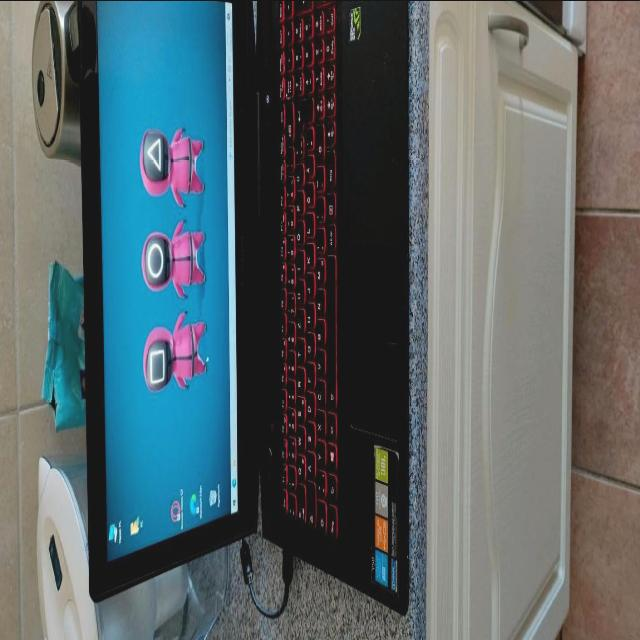0: (285, 206, 293, 232)
1: (287, 466, 295, 492)
2: (287, 440, 295, 466)
3: (285, 412, 295, 438)
4: (286, 382, 294, 408)
5: (286, 352, 294, 376)
6: (285, 322, 294, 348)
7: (285, 294, 294, 320)
8: (286, 265, 294, 291)
9: (286, 235, 294, 261)
a: (304, 455, 313, 483)
accent: (286, 148, 294, 174)
ae: (304, 155, 314, 177)
alt-left: (326, 412, 336, 442)
altgr-right: (325, 227, 335, 255)
b: (313, 323, 323, 349)
c: (314, 383, 324, 411)
caret: (287, 495, 295, 521)
comma: (313, 232, 323, 256)
d: (303, 396, 312, 422)
del: (286, 101, 294, 143)
e: (295, 400, 303, 426)
enter: (294, 99, 314, 135)
f: (303, 365, 312, 393)
g: (303, 335, 313, 363)
h: (303, 306, 313, 334)
hash: (303, 128, 314, 152)
i: (294, 253, 303, 279)
j: (303, 277, 313, 303)
k: (303, 247, 313, 273)
keyboard: (275, 0, 341, 554)
l: (302, 217, 312, 243)
less: (315, 473, 325, 501)
m: (313, 263, 323, 287)
minus: (314, 168, 324, 190)
n: (314, 293, 323, 319)
o: (294, 223, 303, 249)
oe: (305, 185, 315, 207)
p: (295, 192, 303, 216)
plus: (295, 138, 303, 162)
point: (313, 201, 323, 227)
q: (295, 458, 303, 484)
r: (294, 372, 303, 396)
s: (304, 426, 313, 454)
shift-left: (316, 501, 326, 537)
shift-lock: (305, 482, 315, 532)
shift-right: (314, 125, 324, 161)
space: (326, 256, 336, 410)
ss: (286, 177, 294, 203)
strg-left: (326, 504, 337, 542)
strg-right: (325, 151, 335, 187)
t: (294, 343, 302, 367)
tab: (297, 483, 305, 525)
u: (294, 283, 303, 307)
ue: (294, 163, 302, 187)
v: (314, 353, 324, 379)
w: (295, 430, 303, 454)
x: (314, 413, 324, 441)
y: (314, 444, 324, 472)
z: (294, 312, 302, 338)
